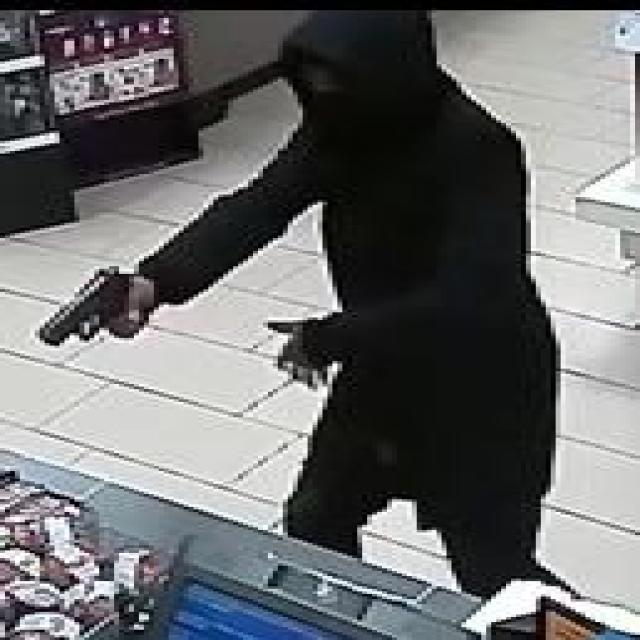Gun: (24, 265, 155, 376)
